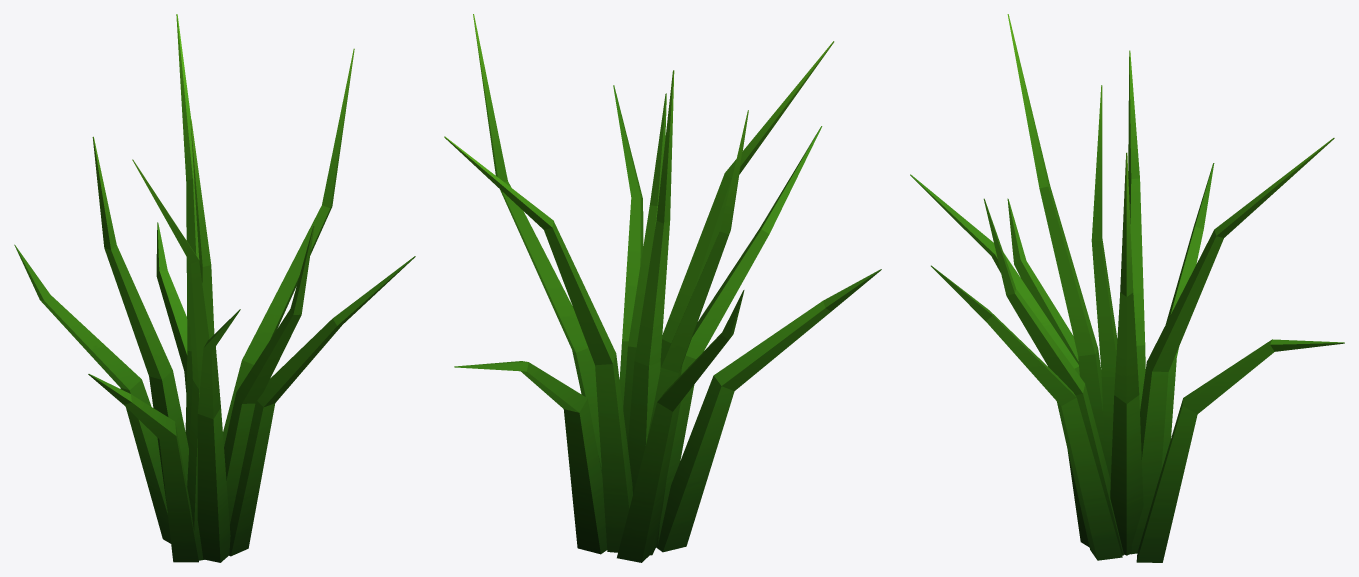
The model's file is FBX_Grass 1.fbx.
3 renders of one model, left to right at view 1: azimuth 30°, elevation 25°; view 2: azimuth 150°, elevation 25°; view 3: azimuth 270°, elevation 25°, orthographic. The views are drawn at different scales.
Parts seen in each view (by area): view 1: M_Grass; view 2: M_Grass; view 3: M_Grass.
Part boxes in pixels (x1,y1,x2,y2): M_Grass: (14, 14, 415, 562); M_Grass: (444, 14, 881, 562); M_Grass: (910, 14, 1344, 562).
Size of the model in its own units: 0.1886 by 0.2551 by 0.215.
